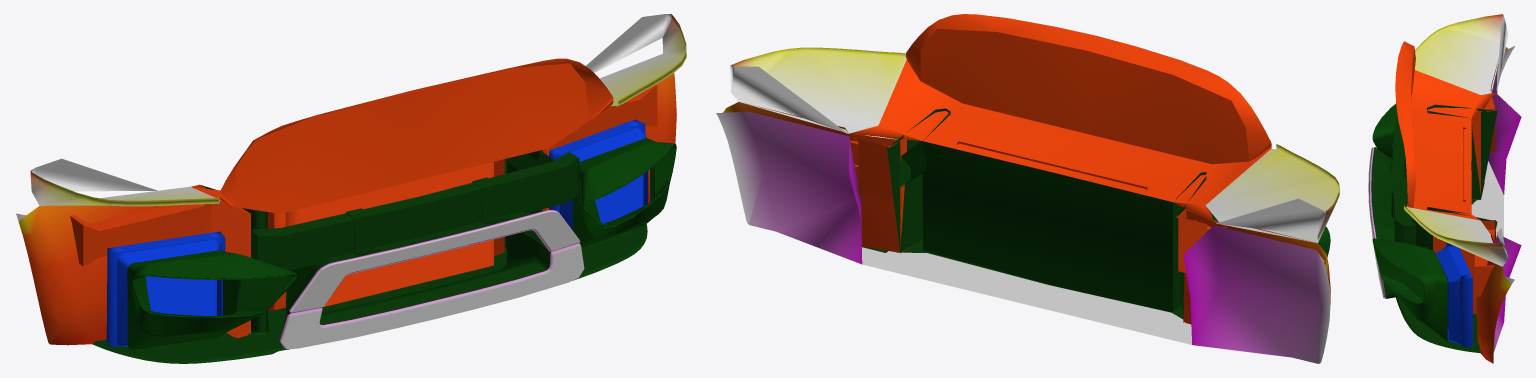
File: Car_Mini_CountrymanJCW_2017_BumperChassisF_SetE.fbx
3 views of the same model, side by side, from view 1: azimuth 30°, elevation 25°; view 2: azimuth 150°, elevation 25°; view 3: azimuth 270°, elevation 25° (orthographic). The views are drawn at different scales.
Visible parts, largest first — view 1: BumperChassisF 6; view 2: BumperChassisF 6; view 3: BumperChassisF 6.
Boxes of the visible parts, x1,y1,x2,y2 form: BumperChassisF 6: (16, 14, 686, 363); BumperChassisF 6: (716, 14, 1339, 363); BumperChassisF 6: (1368, 14, 1521, 363).
Bounding box in the file's own units: 1.78 × 0.6085 × 0.4917.
